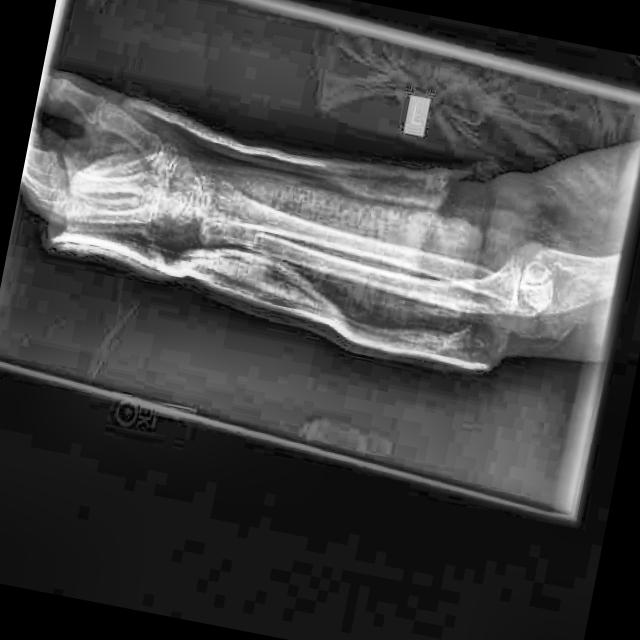forearm fracture: (228, 206, 290, 277)
